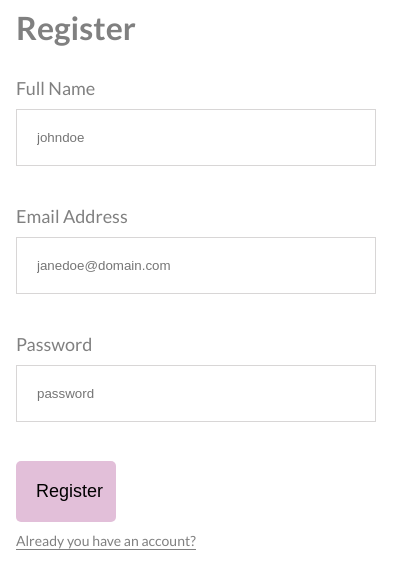
Test: name errors should be rendered when click
Click the button at (66, 492), box [16,461,116,522]
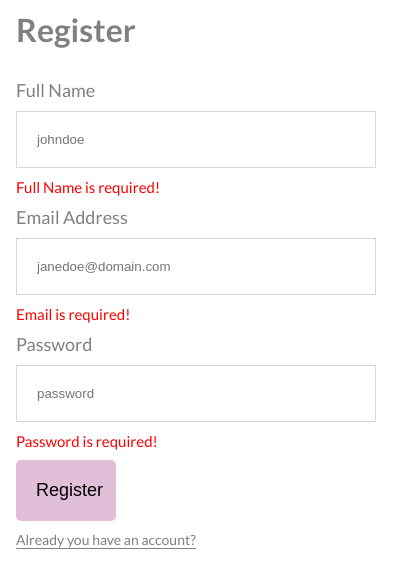
Check: the text with test id "nameError" reads "Full Name is required!", box [16,178,160,196]
